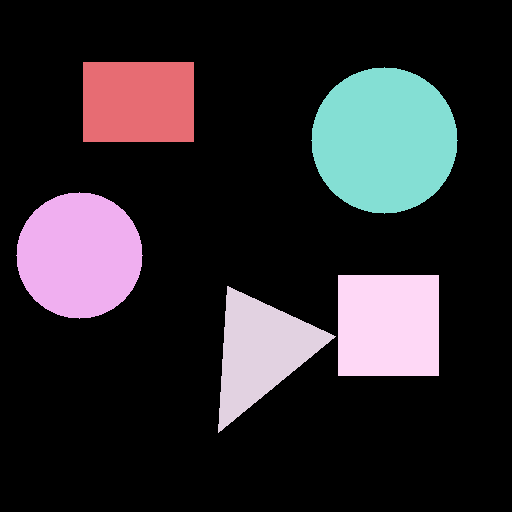circle: (311, 67, 457, 213), (16, 192, 142, 318)
rectangle: (83, 62, 193, 141)
square: (338, 275, 438, 375)
triangle: (218, 286, 335, 432)
